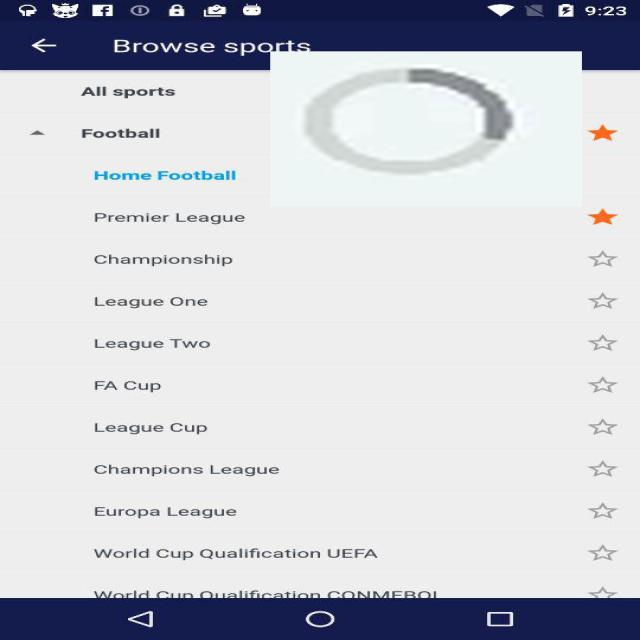misdirection: (270, 51, 582, 207)
